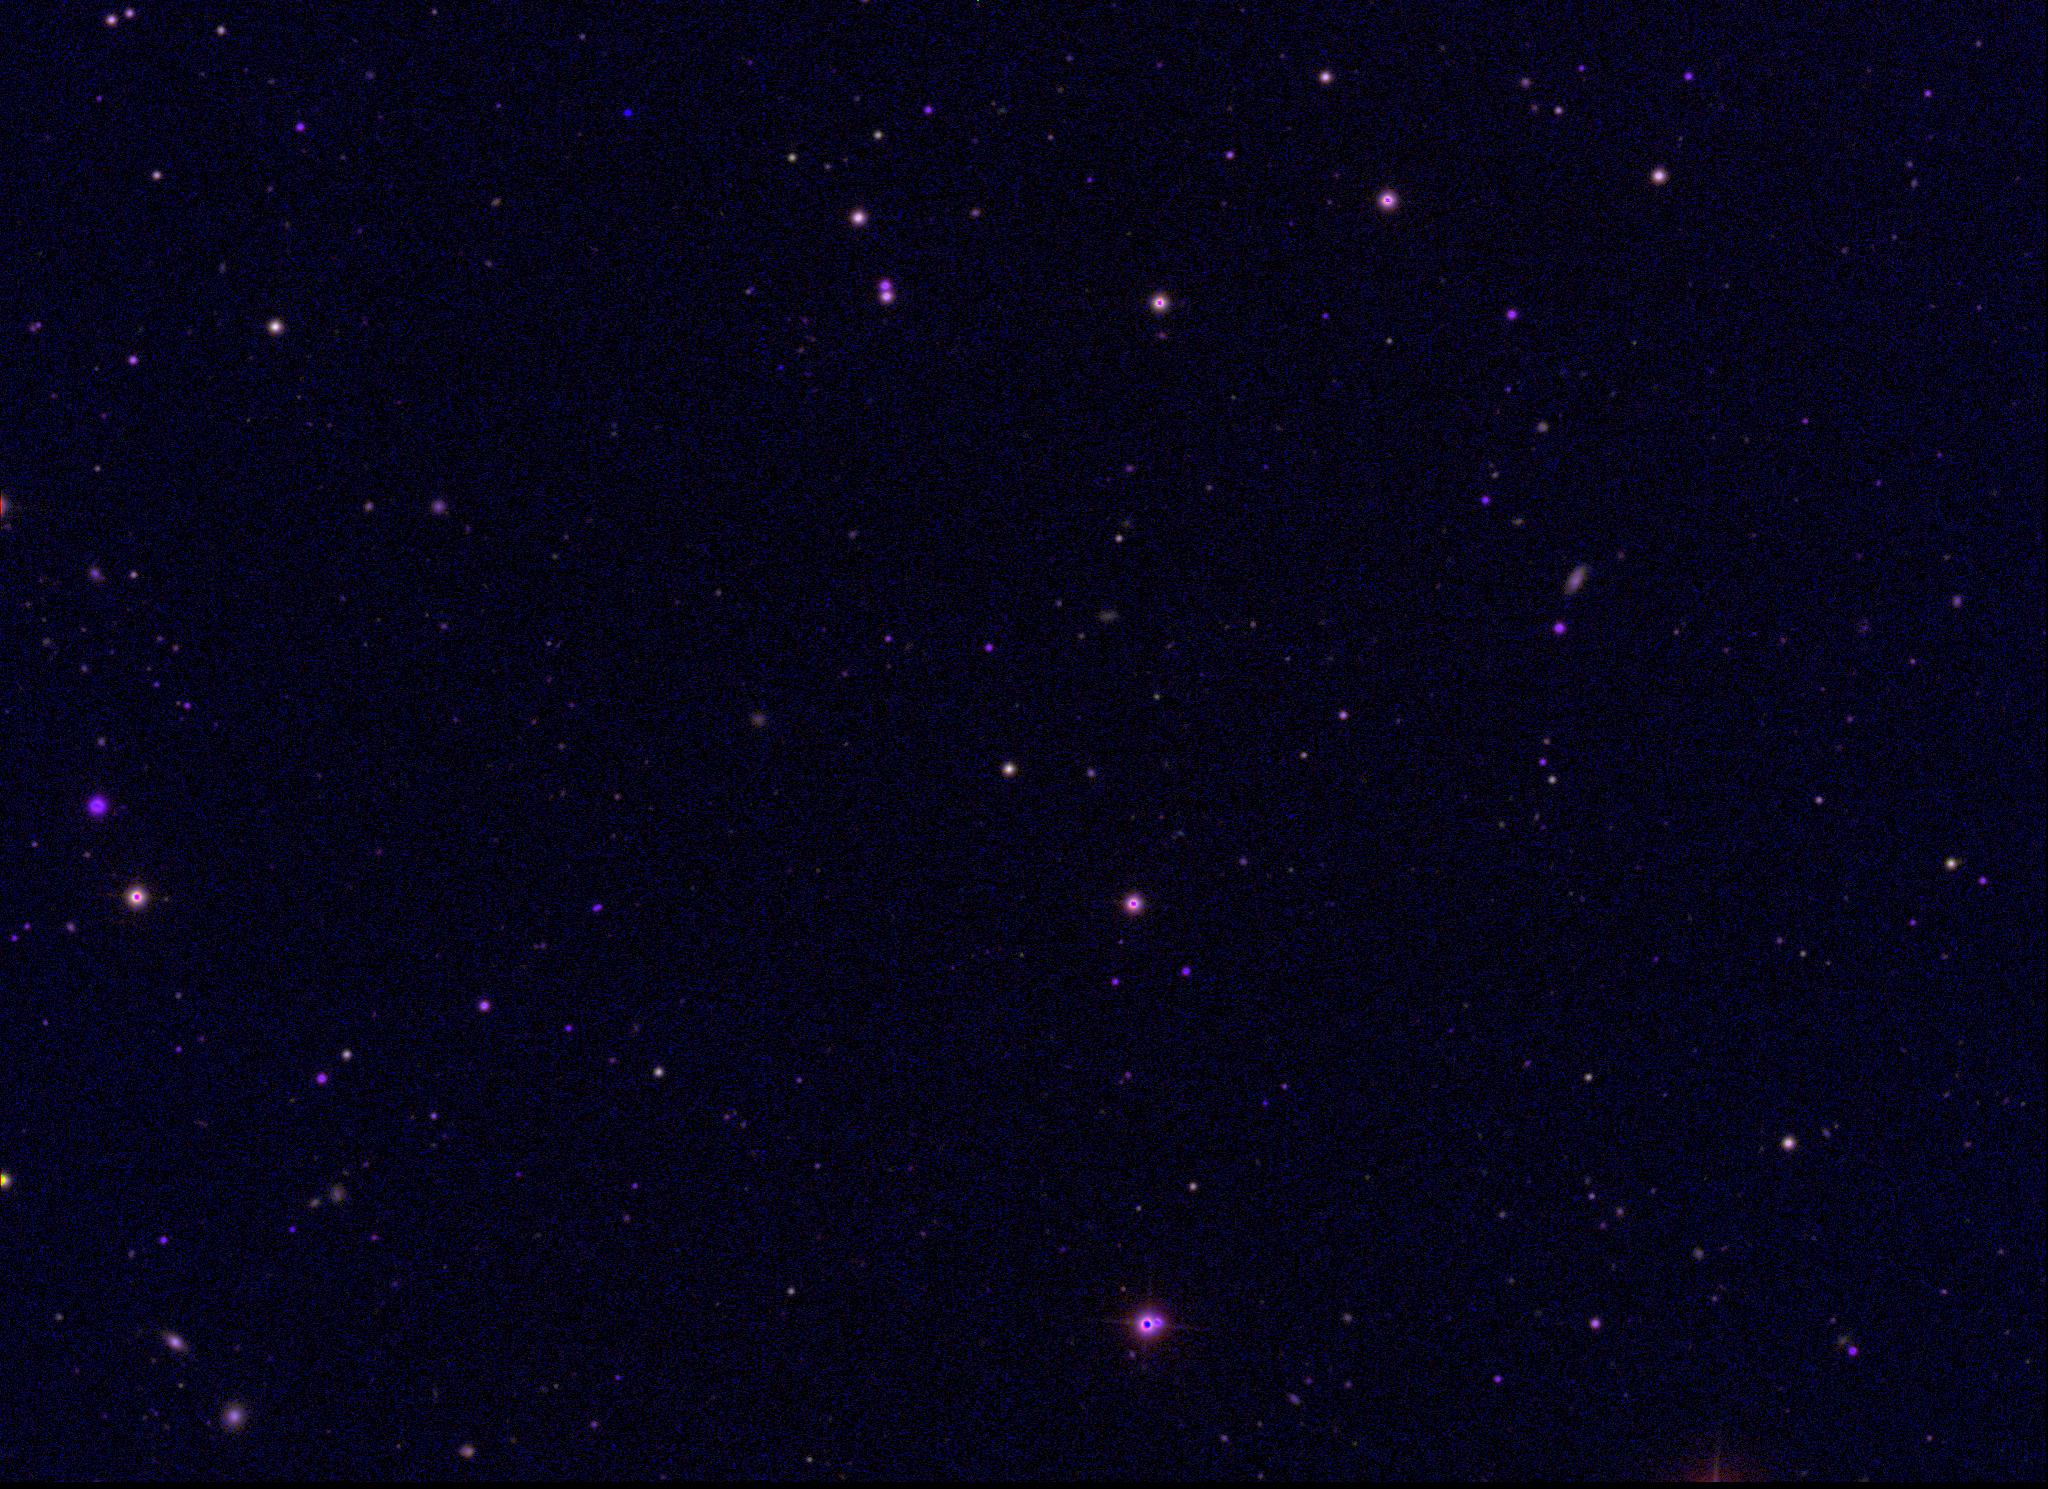L: (622, 105, 634, 119)
